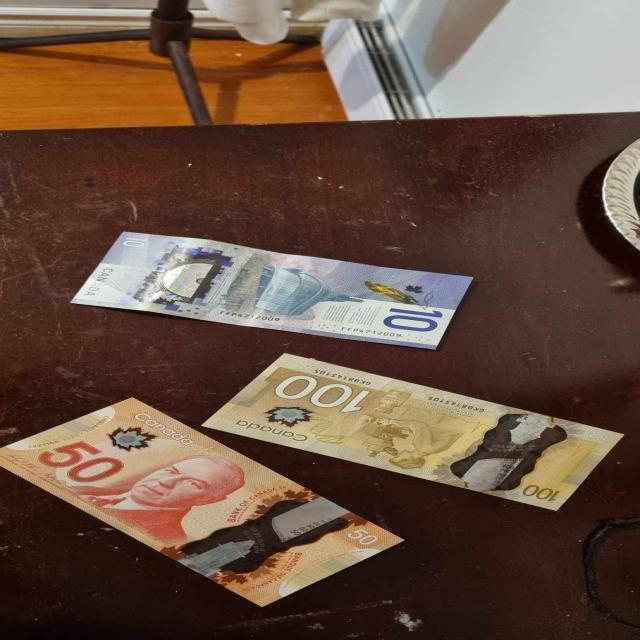10 cad: (77, 232, 472, 348)
100 cad: (202, 355, 635, 515)
50 cad: (4, 397, 404, 607)
